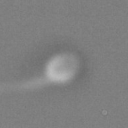normal: (1, 71, 48, 105)
